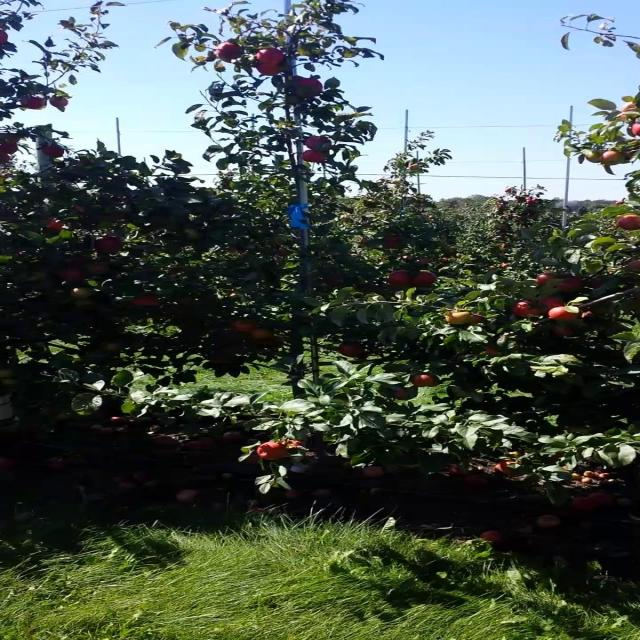apple: (511, 300, 542, 317), (412, 272, 441, 288), (255, 48, 284, 64), (262, 444, 290, 460), (99, 236, 124, 253), (298, 80, 325, 95), (390, 272, 412, 288), (220, 44, 242, 60), (561, 276, 583, 292), (255, 64, 284, 76), (412, 376, 441, 388), (305, 136, 331, 149), (340, 344, 364, 358), (604, 152, 626, 167), (618, 216, 638, 232), (554, 308, 576, 322), (497, 460, 516, 476), (540, 296, 565, 308), (63, 268, 85, 281), (447, 312, 469, 325), (134, 296, 160, 307), (305, 152, 327, 164), (70, 288, 92, 300), (234, 320, 256, 332), (383, 236, 404, 248), (326, 276, 347, 288), (28, 100, 48, 112), (77, 300, 96, 312), (284, 440, 306, 450), (618, 108, 636, 120), (554, 328, 576, 337), (156, 216, 172, 228), (589, 152, 604, 164), (49, 220, 64, 232), (49, 100, 71, 108), (42, 148, 64, 156), (92, 264, 108, 275), (540, 276, 555, 287), (255, 328, 270, 339), (269, 336, 284, 347), (468, 316, 484, 326), (70, 256, 87, 265), (184, 232, 203, 240), (6, 144, 21, 154), (483, 348, 500, 356), (42, 408, 57, 417), (6, 136, 21, 144), (397, 392, 412, 400), (589, 280, 604, 288), (106, 344, 121, 352), (248, 456, 263, 464), (625, 152, 638, 161), (625, 104, 639, 112), (77, 204, 85, 215), (582, 312, 596, 318), (212, 360, 228, 365), (6, 172, 14, 177)
